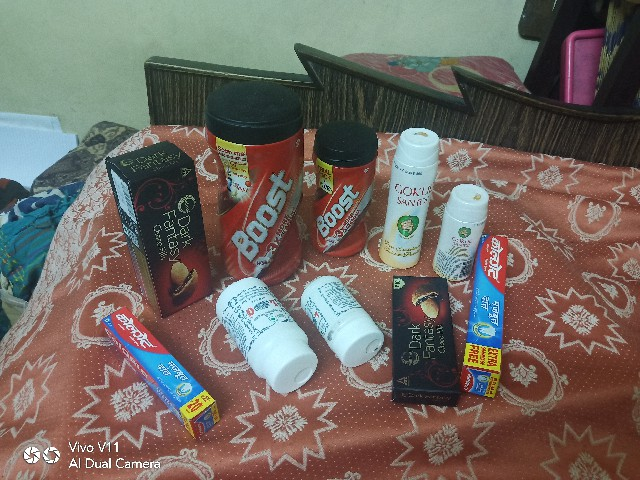boost big: (203, 62, 307, 285)
boost small: (315, 122, 381, 264)
colgatetoothpaste big: (466, 231, 529, 402)
colgatetoothpaste small: (86, 299, 216, 445)
darkfantasy big: (96, 140, 212, 312)
darkfantasy small: (388, 271, 462, 410)
gokulsantol big: (379, 101, 440, 275)
gokulsantol small: (431, 182, 488, 278)
lgasafoetidapowder large: (215, 277, 312, 398)
lgasafoetidapowder small: (300, 271, 389, 361)
